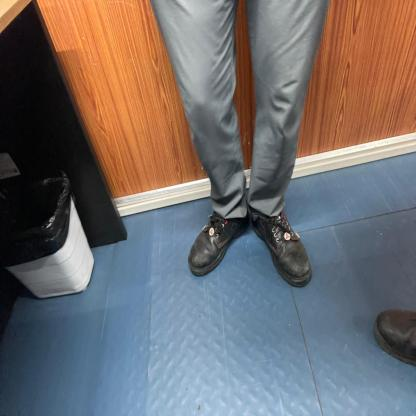bota: (249, 206, 313, 290), (187, 206, 250, 278)
